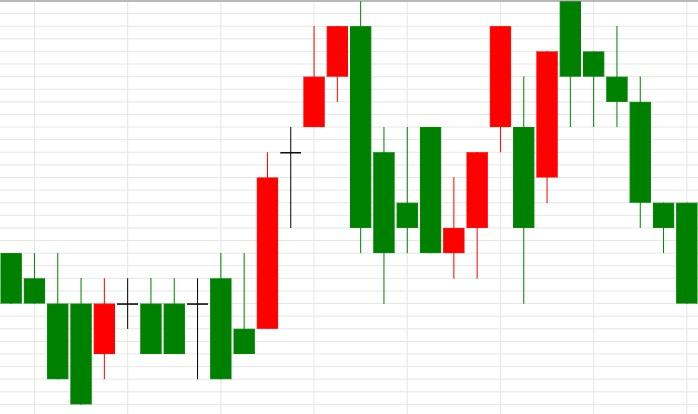bearish_engulfing_fall: (256, 1, 371, 329)
